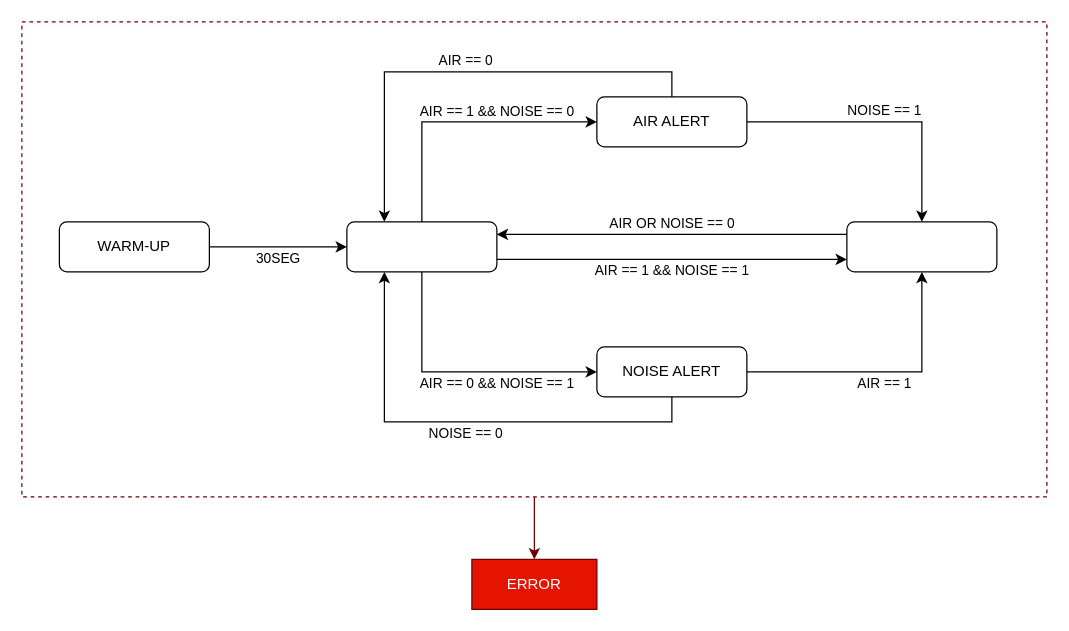
The diagram is 1069 pixels wide and 631 high, and some of its shapes have lost their labels. Here are the shapes that lost their labels. From the top down, the box of each, then its label:
(346, 221, 497, 272): STABLE
(846, 221, 997, 272): EMERGENCY
